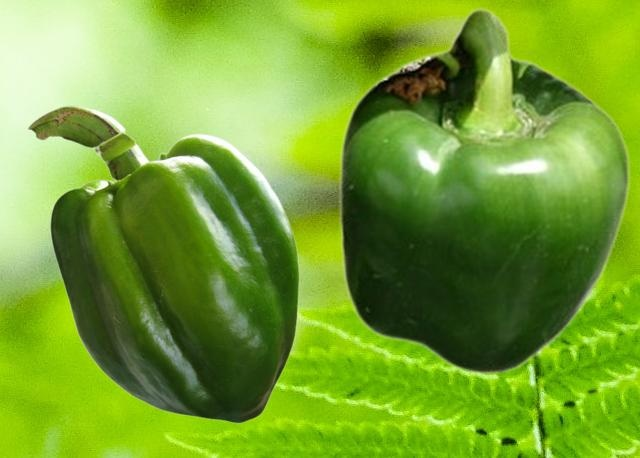bell_pepper: (337, 7, 630, 375), (27, 104, 298, 422)
